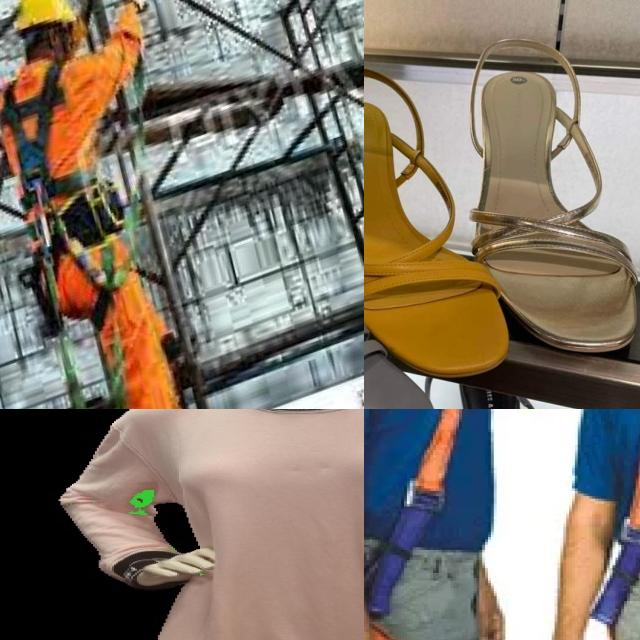Harness: (364, 409, 494, 640), (0, 63, 65, 262)
Sandals: (441, 13, 640, 377), (364, 42, 517, 389), (364, 79, 450, 409)
